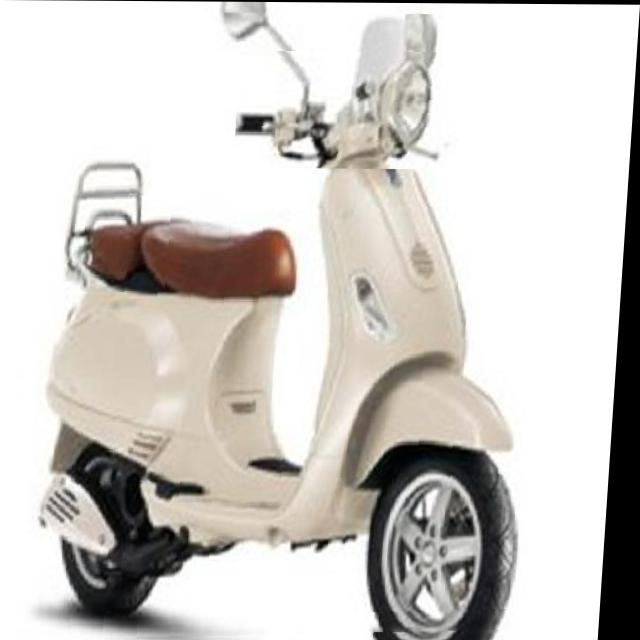All: (23, 11, 557, 640)
Head: (235, 50, 464, 169)
Tail: (62, 194, 175, 293)
